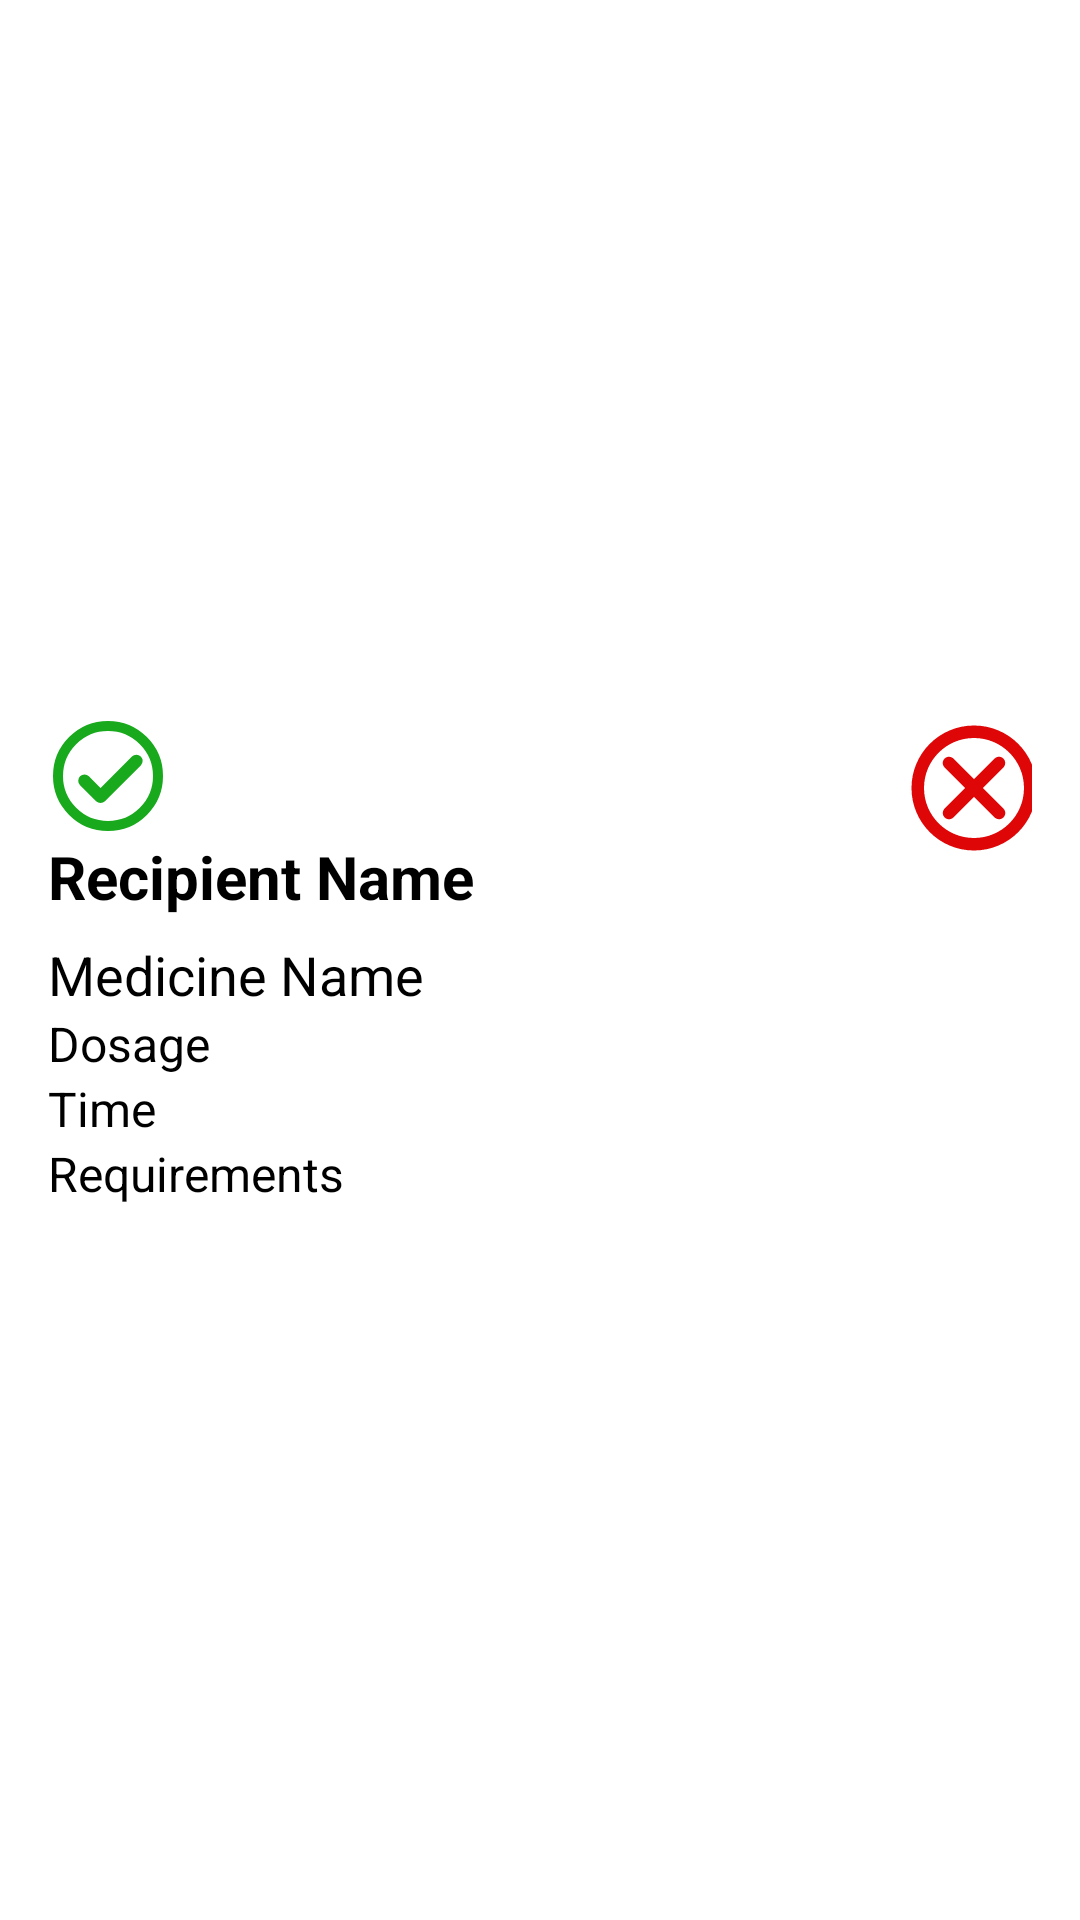

Named icons in this screenshot (1080px×1920px) and their bounding boxes, Rect(x1, y1, x2, y2):
remove: Rect(911, 725, 1032, 851)
tick: Rect(53, 721, 163, 831)
